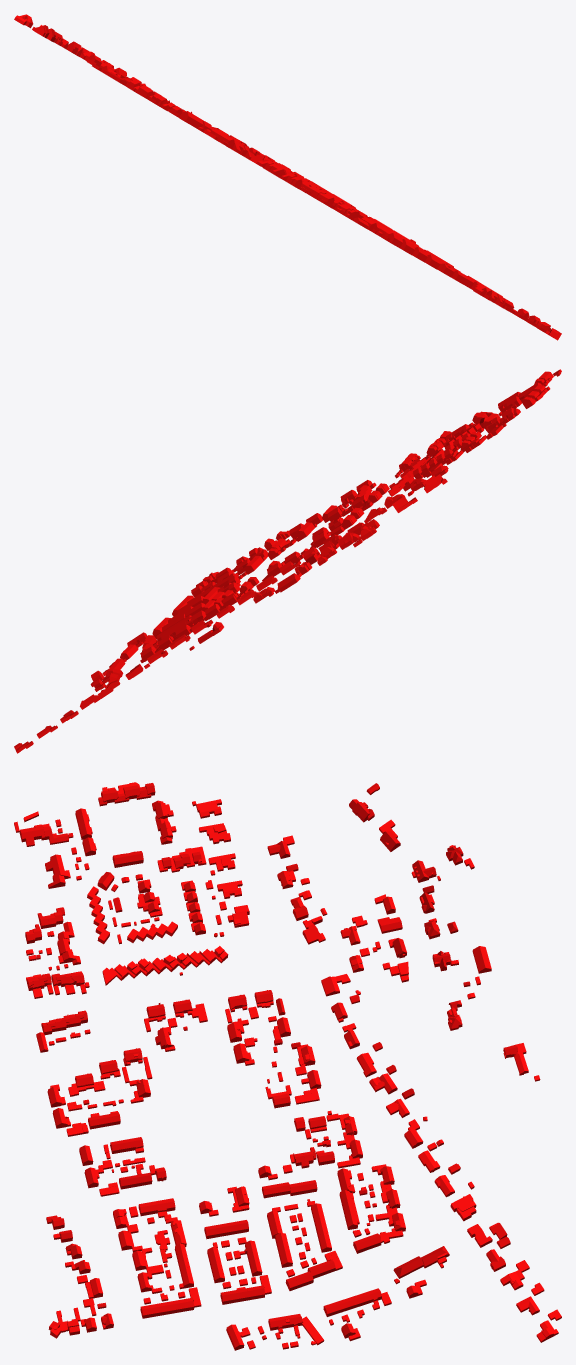
3 views of the same model, one above another, from view 1: azimuth 30°, elevation 25°; view 2: azimuth 150°, elevation 25°; view 3: azimuth 270°, elevation 25° (orthographic). The views are drawn at different scales.
Parts seen in each view (by area): view 1: mesh; view 2: mesh; view 3: mesh.
Part boxes in pixels (bbox=[...]): mesh: bbox=[14, 14, 561, 340]; mesh: bbox=[14, 369, 561, 753]; mesh: bbox=[14, 782, 561, 1350].
Bounding box in the file's own units: 403 × 318 × 434.
